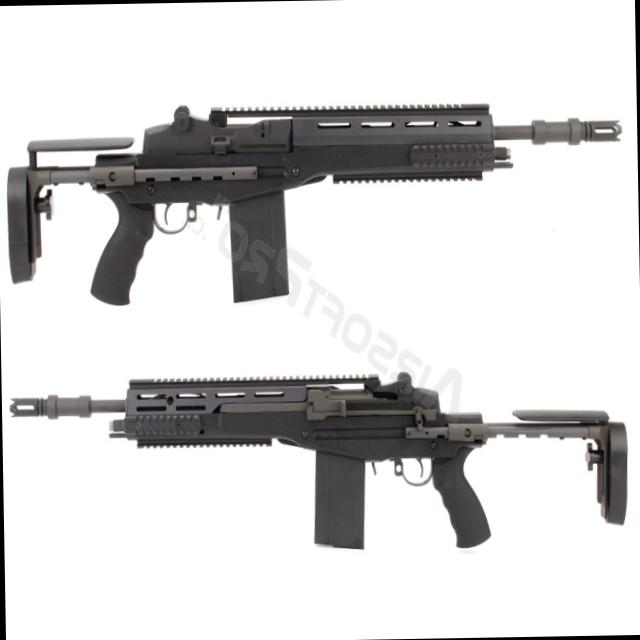Gun: (0, 85, 628, 351), (1, 368, 640, 543)
